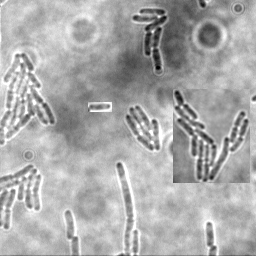Dividing: (114, 161, 133, 255), (204, 221, 215, 248), (88, 102, 112, 112)
Microcolony: (173, 89, 250, 183), (1, 51, 56, 147), (1, 162, 44, 231), (130, 8, 167, 72), (124, 106, 160, 153), (63, 208, 74, 240)
